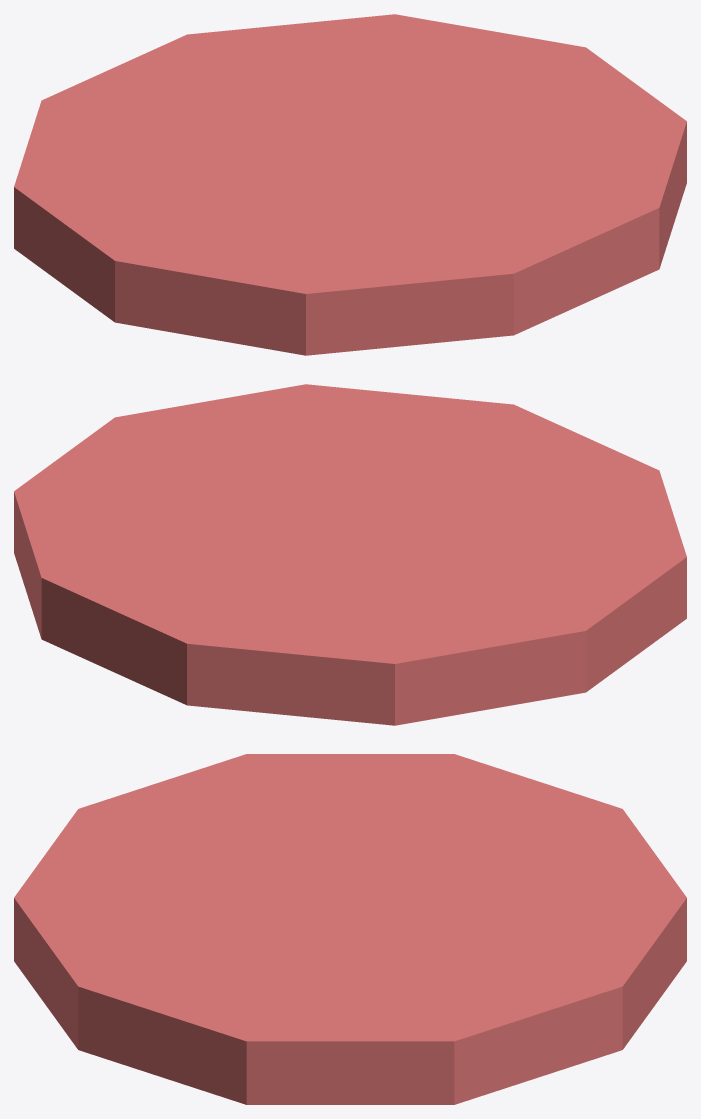
File: headband.glb
3 renders of one model, top to bottom at view 1: azimuth 30°, elevation 25°; view 2: azimuth 150°, elevation 25°; view 3: azimuth 270°, elevation 25°, orthographic. The views are drawn at different scales.
Parts seen in each view (by area): view 1: headband; view 2: headband; view 3: headband.
Part boxes in pixels (x1=…): headband: x1=14, y1=14, x2=686, y2=355; headband: x1=14, y1=384, x2=686, y2=725; headband: x1=14, y1=754, x2=686, y2=1104.
Size of the model in its own units: 0.485 by 0.05 by 0.48.
